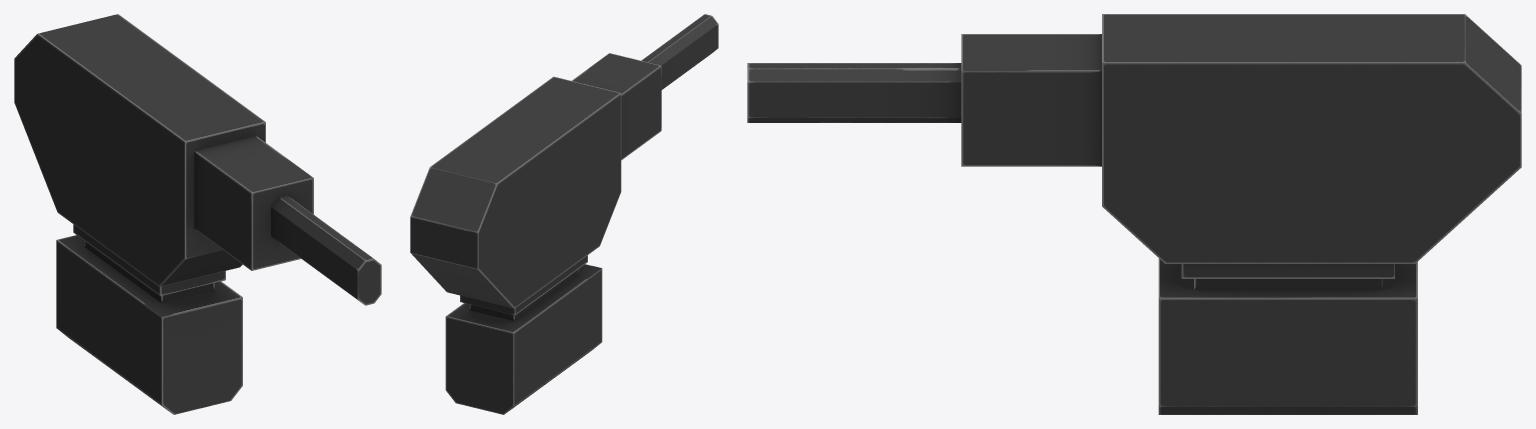
The model's file is playermachinegun.glb.
3 renders of one model, left to right at view 1: azimuth 30°, elevation 25°; view 2: azimuth 150°, elevation 25°; view 3: azimuth 270°, elevation 25°, orthographic. The views are drawn at different scales.
Visible parts, largest first — view 1: Cube.001; view 2: Cube.001; view 3: Cube.001.
Part boxes in pixels (box(x1,y1,x2,y2)): Cube.001: box(14, 14, 381, 414); Cube.001: box(410, 14, 718, 414); Cube.001: box(747, 14, 1521, 414).
Bounding box in the file's own units: 0.4115 × 1.42 × 2.77.
1 material, 1 textured.
